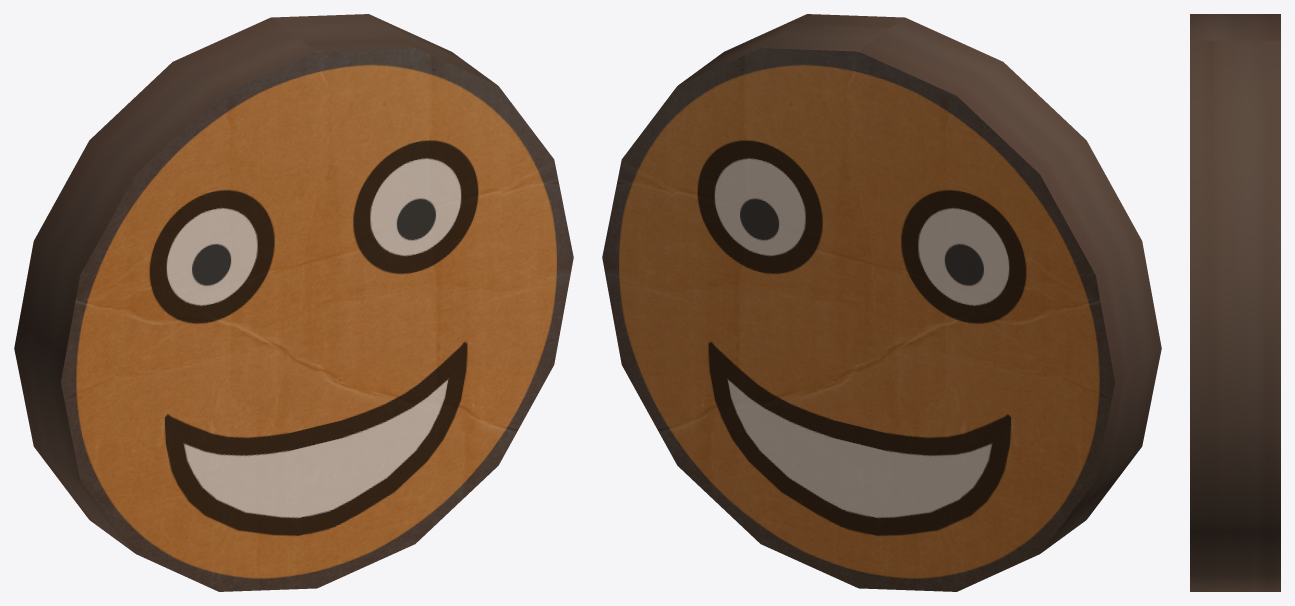
File: player.FBX
3 renders of one model, left to right at view 1: azimuth 30°, elevation 25°; view 2: azimuth 150°, elevation 25°; view 3: azimuth 270°, elevation 25°, orthographic. The views are drawn at different scales.
Visible parts, largest first — view 1: Cylinder002; view 2: Cylinder002; view 3: Cylinder002.
Boxes of the visible parts, x1=… form: Cylinder002: x1=14, y1=14, x2=573, y2=591; Cylinder002: x1=602, y1=14, x2=1161, y2=591; Cylinder002: x1=1190, y1=14, x2=1280, y2=591.
Bounding box in the file's own units: 2.38 × 2.38 × 0.3732.
